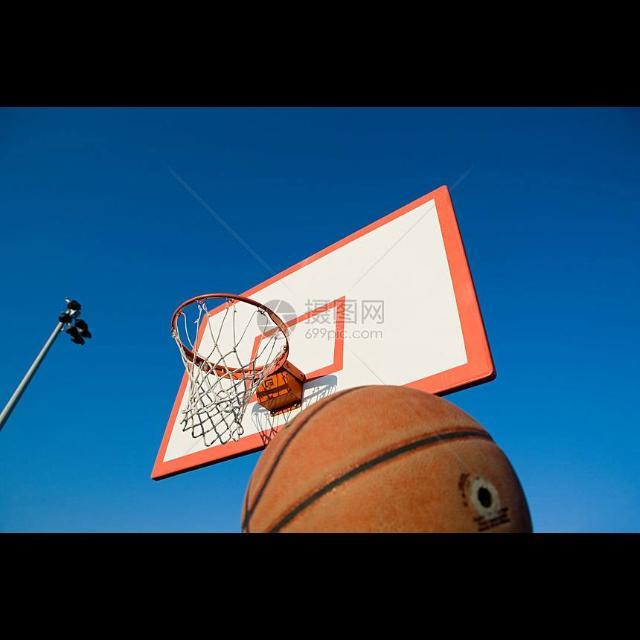rim: (171, 294, 289, 438)
